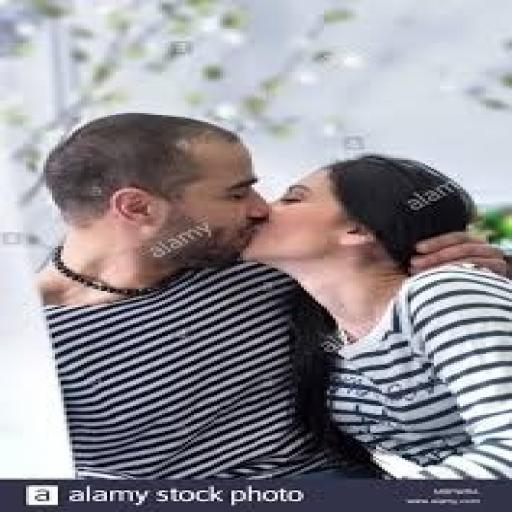hugging: (29, 110, 509, 482)
